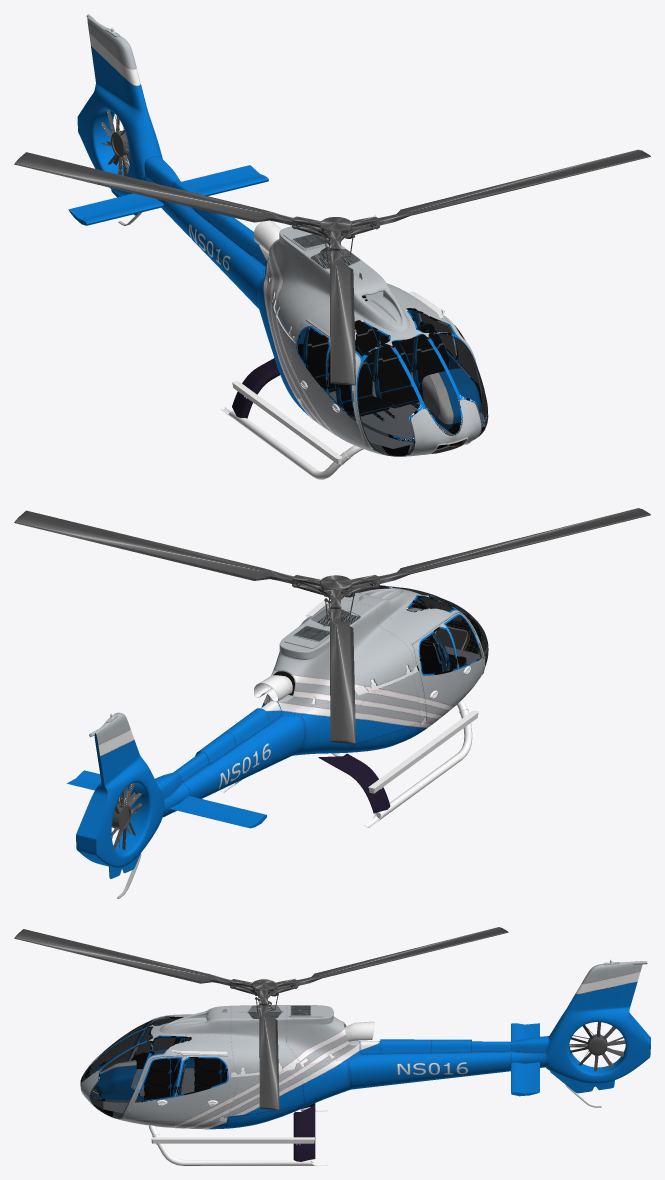
Rendered from helicopter.glb.
3 views of the same model, one above another, from view 1: azimuth 30°, elevation 25°; view 2: azimuth 150°, elevation 25°; view 3: azimuth 270°, elevation 25° (orthographic). The views are drawn at different scales.
Visible parts, largest first — view 1: body, glass, elise, interior, black, rotor_main_part; view 2: body, elise, black, glass, interior, rotor_main_part; view 3: body, elise, glass, black, interior, rotor_main_part.
Boxes of the visible parts, <box> form: body: <box>68,14,487,456</box>; glass: <box>297,308,488,456</box>; elise: <box>14,149,650,385</box>; interior: <box>302,321,449,421</box>; black: <box>110,27,470,479</box>; rotor_main_part: <box>102,110,129,176</box>; body: <box>67,586,488,898</box>; elise: <box>14,508,650,743</box>; black: <box>89,594,478,827</box>; glass: <box>359,585,488,673</box>; interior: <box>420,632,466,673</box>; rotor_main_part: <box>111,782,141,850</box>; body: <box>80,961,650,1161</box>; elise: <box>14,927,508,1110</box>; glass: <box>81,1016,227,1118</box>; black: <box>80,959,647,1165</box>; interior: <box>144,1038,227,1100</box>; rotor_main_part: <box>569,1022,623,1071</box>.
Size of the model in its own units: 8.16 by 3.72 by 12.
Materials: 6 (5 with a texture image).
